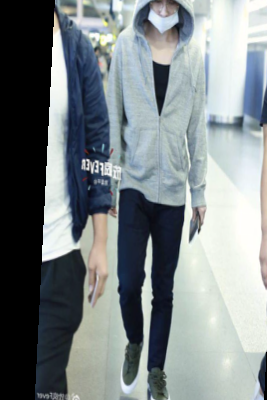mask_weared_incorrect: (133, 1, 195, 36)
